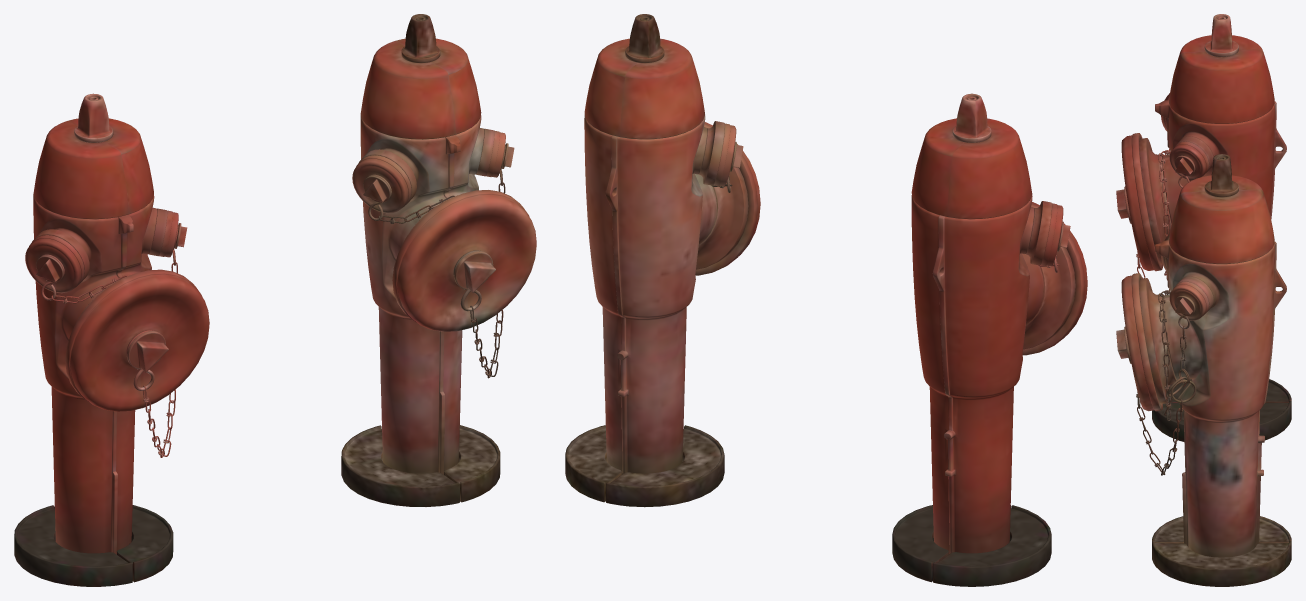
File: fire_hydrant.glb
3 views of the same model, side by side, from view 1: azimuth 30°, elevation 25°; view 2: azimuth 150°, elevation 25°; view 3: azimuth 270°, elevation 25° (orthographic). The views are drawn at different scales.
Visible parts, largest first — view 1: fire_hydrant, fire_hydrant_aged, fire_hydrant_cap_01, fire_hydrant_cap_01_aged, fire_hydrant_cap_03_aged, fire_hydrant_cap_03, fire_hydrant_chain_aged, fire_hydrant_chain, fire_hydrant_cap_02, fire_hydrant_cap_02_aged; view 2: fire_hydrant_aged, fire_hydrant, fire_hydrant_cap_01_aged, fire_hydrant_cap_01, fire_hydrant_cap_03_aged, fire_hydrant_cap_03; view 3: fire_hydrant_aged, fire_hydrant, fire_hydrant_cap_01, fire_hydrant_cap_01_aged, fire_hydrant_chain_aged, fire_hydrant_cap_02_aged, fire_hydrant_cap_02, fire_hydrant_chain.
Part boxes in pixels (left/top/right/bottom): fire_hydrant: left=14, top=93, right=173, bottom=586; fire_hydrant_aged: left=341, top=14, right=500, bottom=506; fire_hydrant_cap_01: left=65, top=269, right=209, bottom=411; fire_hydrant_cap_01_aged: left=392, top=190, right=536, bottom=331; fire_hydrant_cap_03_aged: left=352, top=155, right=411, bottom=213; fire_hydrant_cap_03: left=25, top=235, right=84, bottom=293; fire_hydrant_chain_aged: left=368, top=145, right=505, bottom=378; fire_hydrant_chain: left=41, top=224, right=178, bottom=457; fire_hydrant_cap_02: left=159, top=210, right=187, bottom=257; fire_hydrant_cap_02_aged: left=486, top=130, right=514, bottom=177; fire_hydrant_aged: left=565, top=14, right=748, bottom=507; fire_hydrant: left=892, top=93, right=1075, bottom=586; fire_hydrant_cap_01_aged: left=695, top=122, right=760, bottom=275; fire_hydrant_cap_01: left=1022, top=202, right=1087, bottom=355; fire_hydrant_cap_03_aged: left=713, top=123, right=743, bottom=186; fire_hydrant_cap_03: left=1041, top=203, right=1070, bottom=266; fire_hydrant_aged: left=1139, top=154, right=1291, bottom=586; fire_hydrant: left=1139, top=14, right=1291, bottom=441; fire_hydrant_cap_01: left=1116, top=133, right=1162, bottom=271; fire_hydrant_cap_01_aged: left=1116, top=273, right=1162, bottom=411; fire_hydrant_chain_aged: left=1136, top=289, right=1196, bottom=475; fire_hydrant_cap_02_aged: left=1169, top=281, right=1209, bottom=320; fire_hydrant_cap_02: left=1169, top=141, right=1209, bottom=180; fire_hydrant_chain: left=1136, top=149, right=1194, bottom=280.
Bounding box in the file's own units: 0.8746 × 0.7995 × 0.3177.
2 materials, 2 textured.
